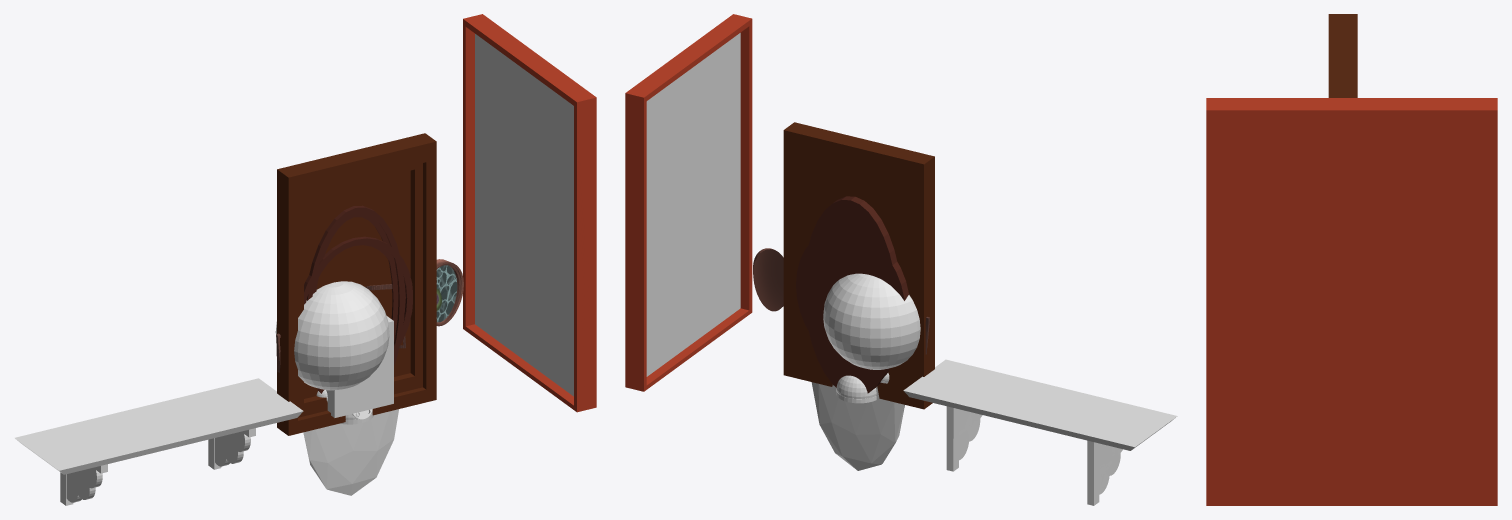
File: Pictures.fbx
The picture shows the model from 3 angles, left to right: view 1: azimuth 30°, elevation 25°; view 2: azimuth 150°, elevation 25°; view 3: azimuth 270°, elevation 25°; orthographic projection. The views are drawn at different scales.
Parts seen in each view (by area): view 1: glass, Painting, frame, Long Shelf.001, Sphere, Icosphere.002, Cylinder, Cube.001, Cylinder.002, Painting Oval long; view 2: glass, Painting, frame, Long Shelf.001, Sphere, Cylinder, Icosphere.001, Cylinder.002, Painting Oval long, Cylinder.001; view 3: frame, Painting.
Part boxes in pixels (bbox=[...]): glass: bbox=[475, 34, 573, 396]; Painting: bbox=[277, 133, 436, 435]; frame: bbox=[463, 14, 596, 412]; Long Shelf.001: bbox=[15, 378, 303, 505]; Sphere: bbox=[275, 281, 389, 390]; Icosphere.002: bbox=[303, 410, 393, 495]; Cylinder: bbox=[306, 205, 404, 393]; Cube.001: bbox=[326, 316, 393, 417]; Cylinder.002: bbox=[304, 236, 412, 354]; Painting Oval long: bbox=[436, 259, 463, 326]; glass: bbox=[646, 33, 740, 376]; Painting: bbox=[783, 122, 934, 409]; frame: bbox=[625, 14, 752, 391]; Long Shelf.001: bbox=[903, 359, 1177, 505]; Sphere: bbox=[823, 273, 920, 369]; Cylinder: bbox=[803, 196, 897, 393]; Icosphere.001: bbox=[811, 382, 904, 470]; Cylinder.002: bbox=[796, 229, 908, 366]; Painting Oval long: bbox=[753, 248, 783, 311]; Cylinder.001: bbox=[836, 375, 876, 403]; frame: bbox=[1206, 98, 1497, 505]; Painting: bbox=[1328, 14, 1357, 97].
Bounding box in the file's own units: 1018 × 763 × 400.
